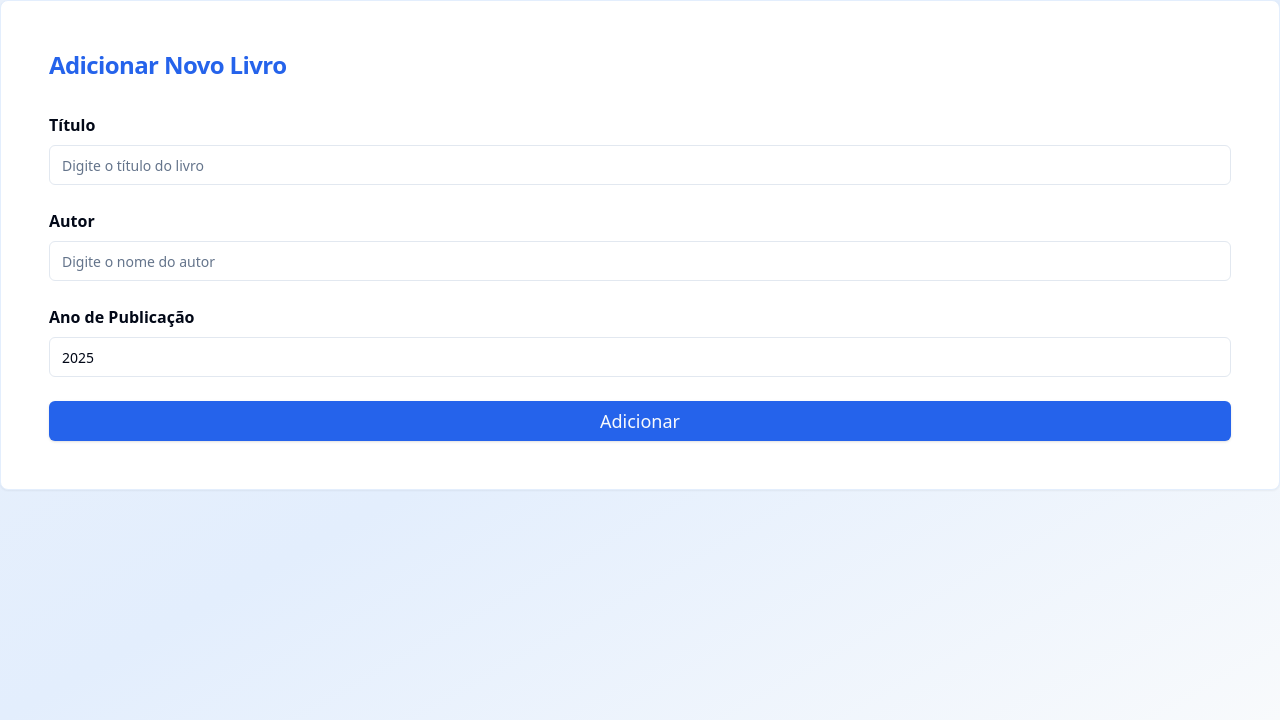
Test: BookForm › deve validar campos obrigatórios
The image size is (1280, 720).
Click the button "Adicionar": [640, 421] box [49,401,1231,441]
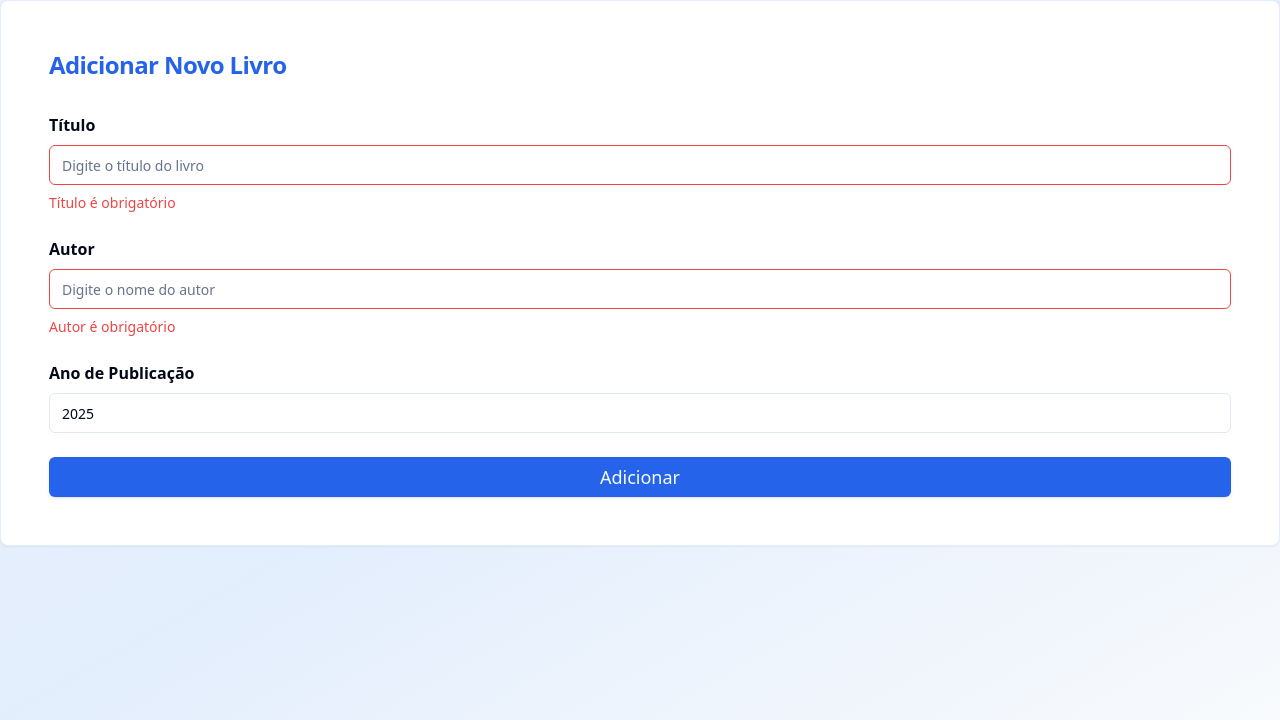
Expected: the text "Título é obrigatório" is shown, [49,193,176,212]
Expected: the text "Autor é obrigatório" is shown, [49,317,175,336]
